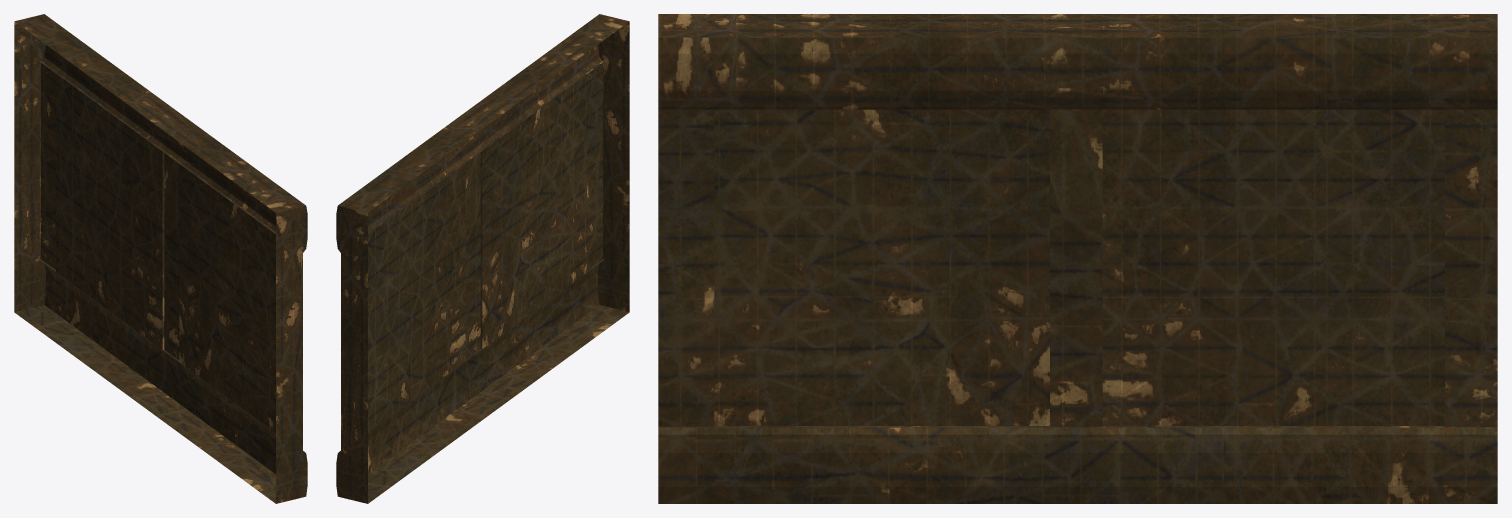
Rendered from wallPrefab1x2.fbx.
3 views of the same model, side by side, from view 1: azimuth 30°, elevation 25°; view 2: azimuth 150°, elevation 25°; view 3: azimuth 270°, elevation 25° (orthographic). The views are drawn at different scales.
Parts seen in each view (by area): view 1: wallPrefab1x2; view 2: wallPrefab1x2; view 3: wallPrefab1x2.
Part boxes in pixels (x1,y1,x2,y2): wallPrefab1x2: (14,14,307,503); wallPrefab1x2: (336,14,629,503); wallPrefab1x2: (658,14,1497,503).
Size of the model in its own units: 25.03 by 220 by 358.
